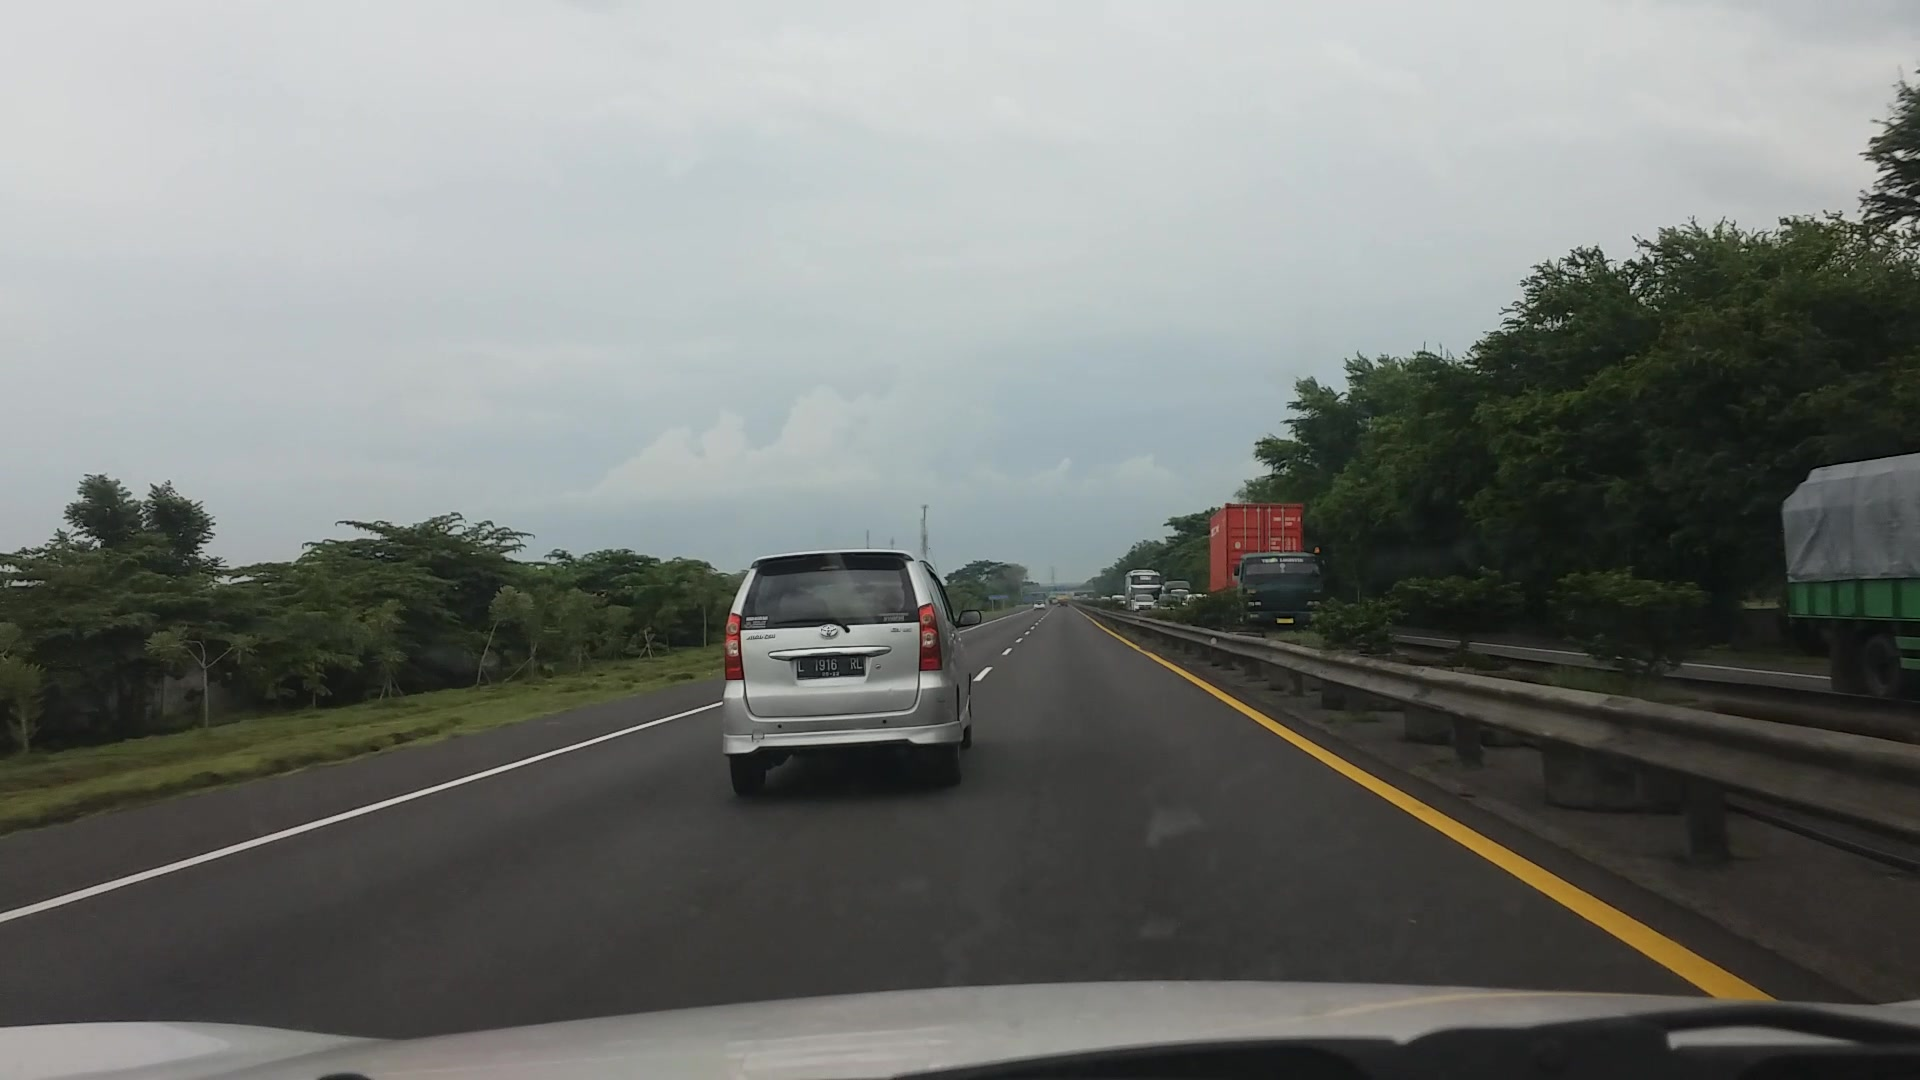plate_positive: (796, 655, 864, 678)
